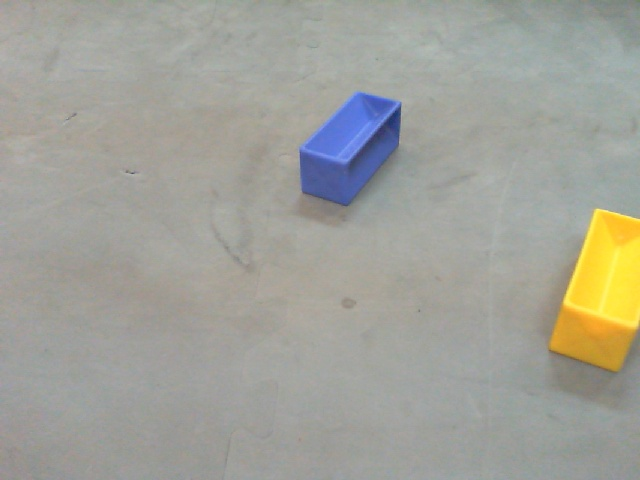BlueSample: (297, 89, 405, 211)
YellowSample: (546, 200, 640, 370)
